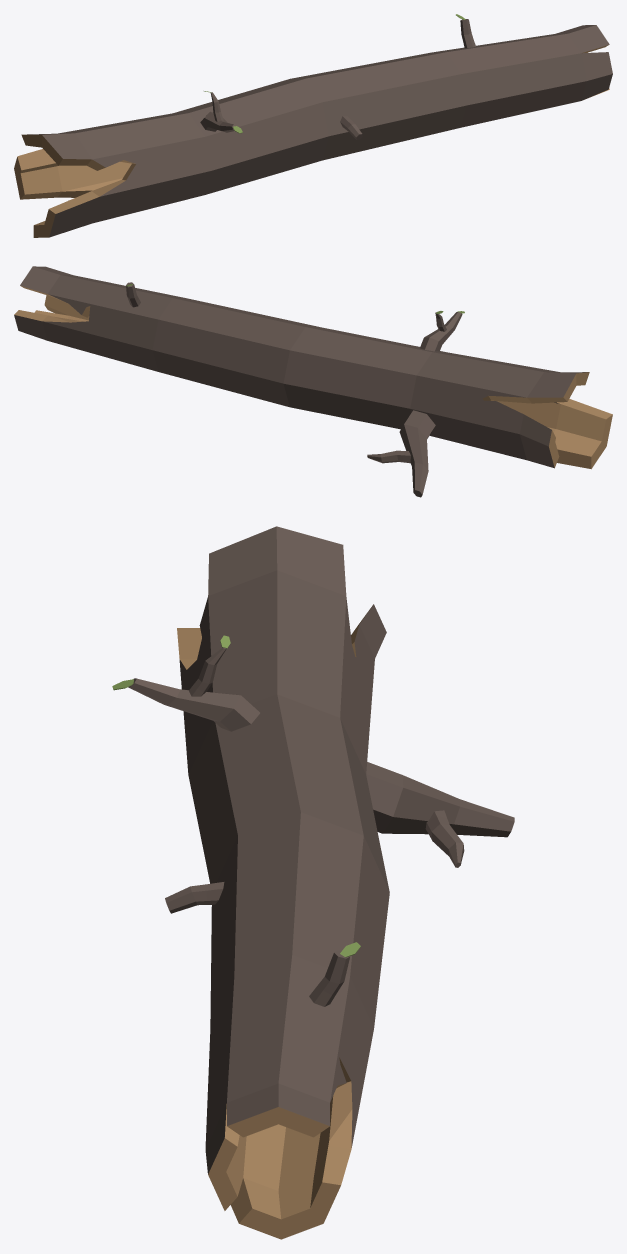
Rendered from 2_2 Treetrunk - Copy.fbx.
3 renders of one model, top to bottom at view 1: azimuth 30°, elevation 25°; view 2: azimuth 150°, elevation 25°; view 3: azimuth 270°, elevation 25°, orthographic. The views are drawn at different scales.
Visible parts, largest first — view 1: Treetrunk; view 2: Treetrunk; view 3: Treetrunk.
Part boxes in pixels (left/top/right/bottom): Treetrunk: left=14, top=14, right=612, bottom=237; Treetrunk: left=14, top=266, right=612, bottom=497; Treetrunk: left=112, top=526, right=514, bottom=1239.
Size of the model in its own units: 1318 by 277 by 412.
